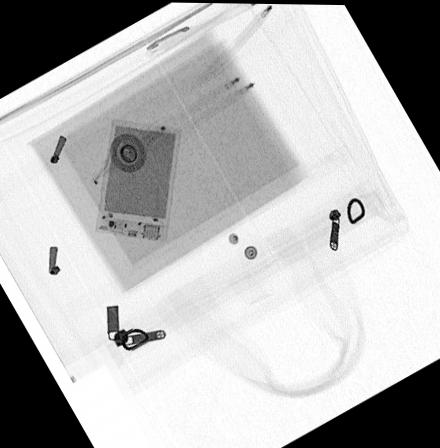Powerbank: (95, 118, 182, 242)
